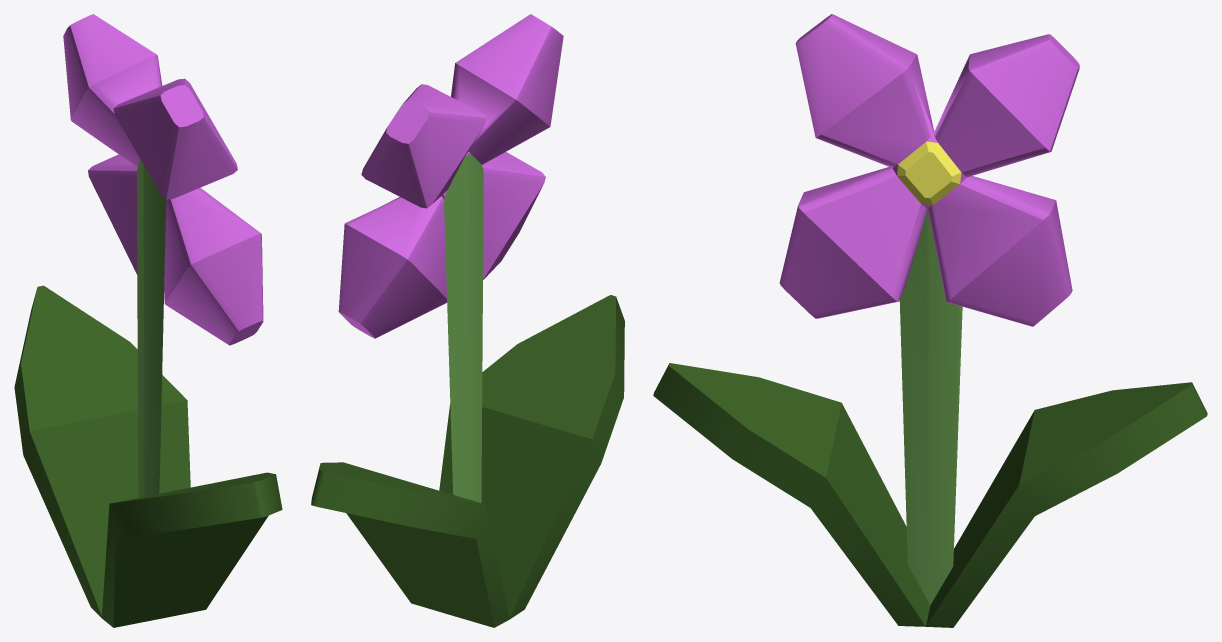
The model's file is Flower03.fbx.
The picture shows the model from 3 angles, left to right: view 1: azimuth 30°, elevation 25°; view 2: azimuth 150°, elevation 25°; view 3: azimuth 270°, elevation 25°; orthographic projection. The views are drawn at different scales.
Visible parts, largest first — view 1: Flower001; view 2: Flower001; view 3: Flower001.
Boxes of the visible parts, x1,y1,x2,y2 form: Flower001: [14, 14, 282, 627]; Flower001: [311, 14, 624, 627]; Flower001: [653, 14, 1207, 627].
Size of the model in its own units: 3.36 by 10.88 by 9.43.
1 material, 1 textured.
